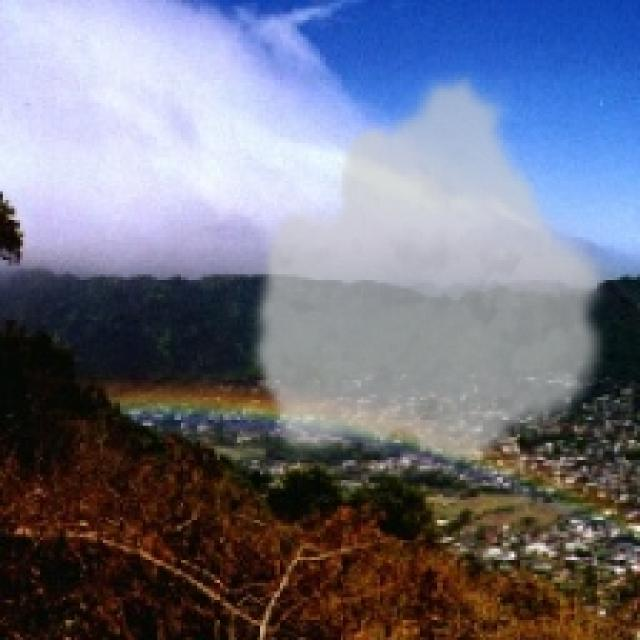smoke: (249, 66, 614, 468)
